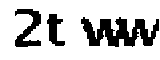2: (9, 5, 44, 51)
t: (45, 12, 69, 47)
w: (80, 13, 122, 50), (121, 12, 160, 50)
